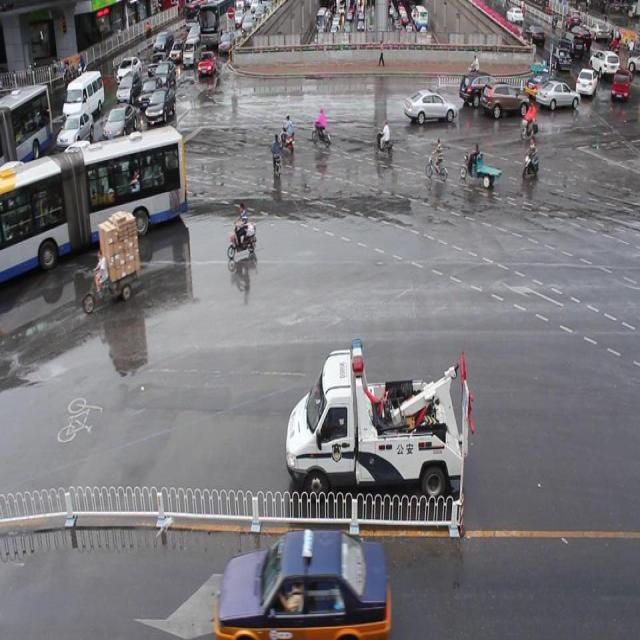bus: (285, 338, 464, 498)
car: (403, 87, 455, 123), (479, 81, 526, 117), (458, 70, 503, 105), (535, 80, 579, 112), (524, 74, 563, 98)
van: (1, 129, 182, 273)
